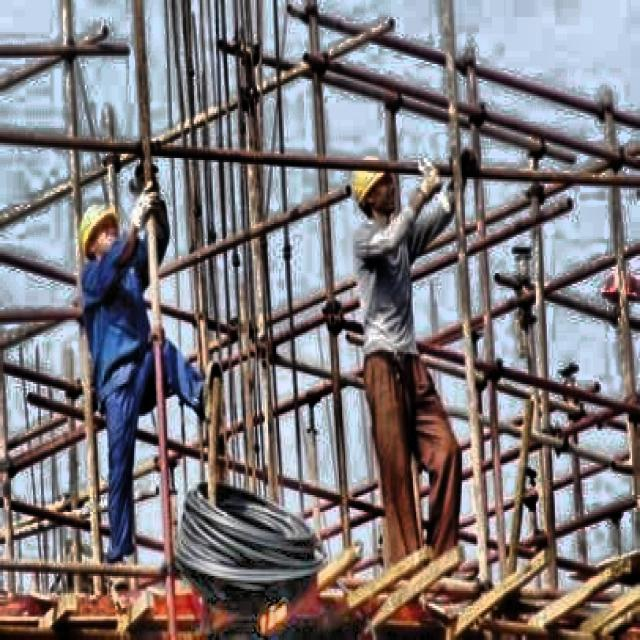helmet: (344, 162, 400, 216), (79, 200, 123, 262)
